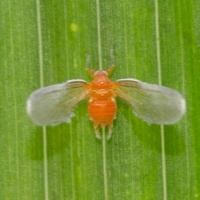insect: (26, 70, 185, 137)
